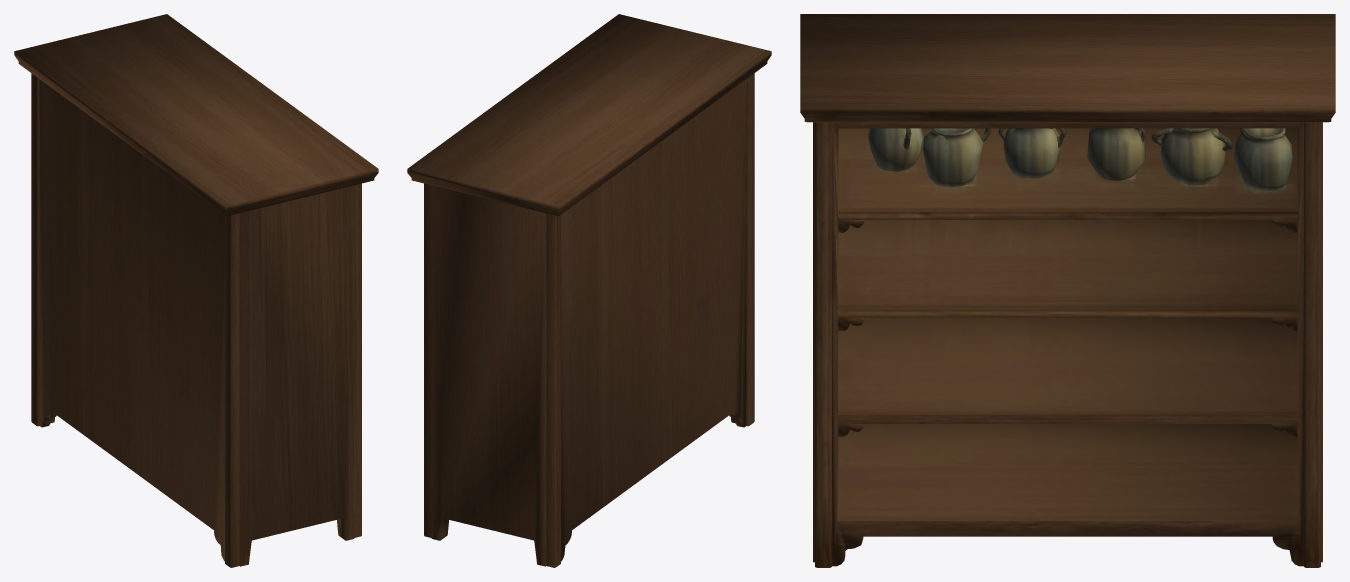
File: Prop_Shelf_Kitchen.fbx
3 views of the same model, side by side, from view 1: azimuth 30°, elevation 25°; view 2: azimuth 150°, elevation 25°; view 3: azimuth 270°, elevation 25° (orthographic). The views are drawn at different scales.
Parts seen in each view (by area): view 1: body.001; view 2: body.001; view 3: body.001, pot.
Boxes of the visible parts, x1=… form: body.001: x1=14, y1=14, x2=378, y2=567; body.001: x1=407, y1=14, x2=771, y2=567; body.001: x1=800, y1=14, x2=1335, y2=567; pot: x1=867, y1=128, x2=1292, y2=190.
Bounding box in the file's own units: 52.06 × 120 × 125.
